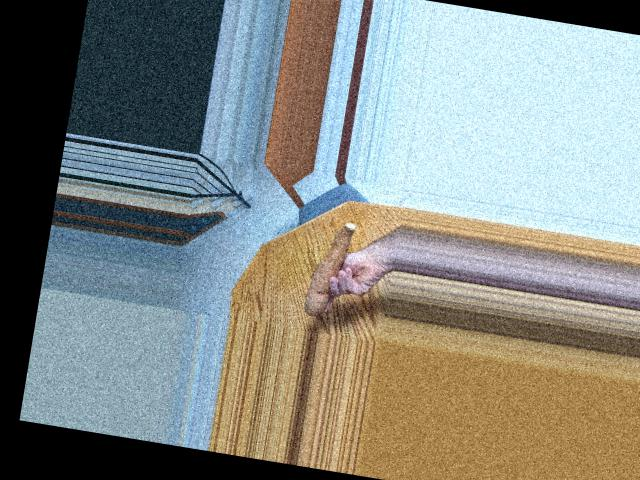sweet_potato: (299, 215, 360, 319)
